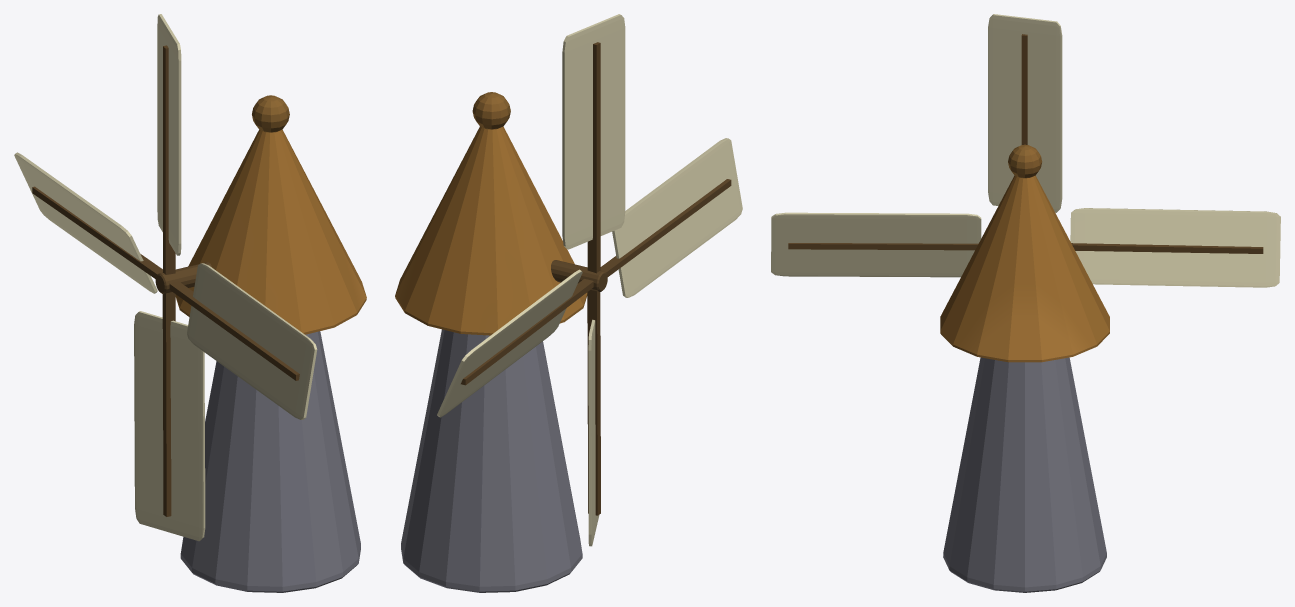
File: moulin.fbx
The picture shows the model from 3 angles, left to right: view 1: azimuth 30°, elevation 25°; view 2: azimuth 150°, elevation 25°; view 3: azimuth 270°, elevation 25°; orthographic projection. The views are drawn at different scales.
Visible parts, largest first — view 1: Cylinder; view 2: Cylinder; view 3: Cylinder.
Part boxes in pixels (x1,y1,x2,y2): Cylinder: [14, 14, 366, 592]; Cylinder: [395, 14, 742, 592]; Cylinder: [771, 14, 1280, 592].
Size of the model in its own units: 354 by 933 by 870.
